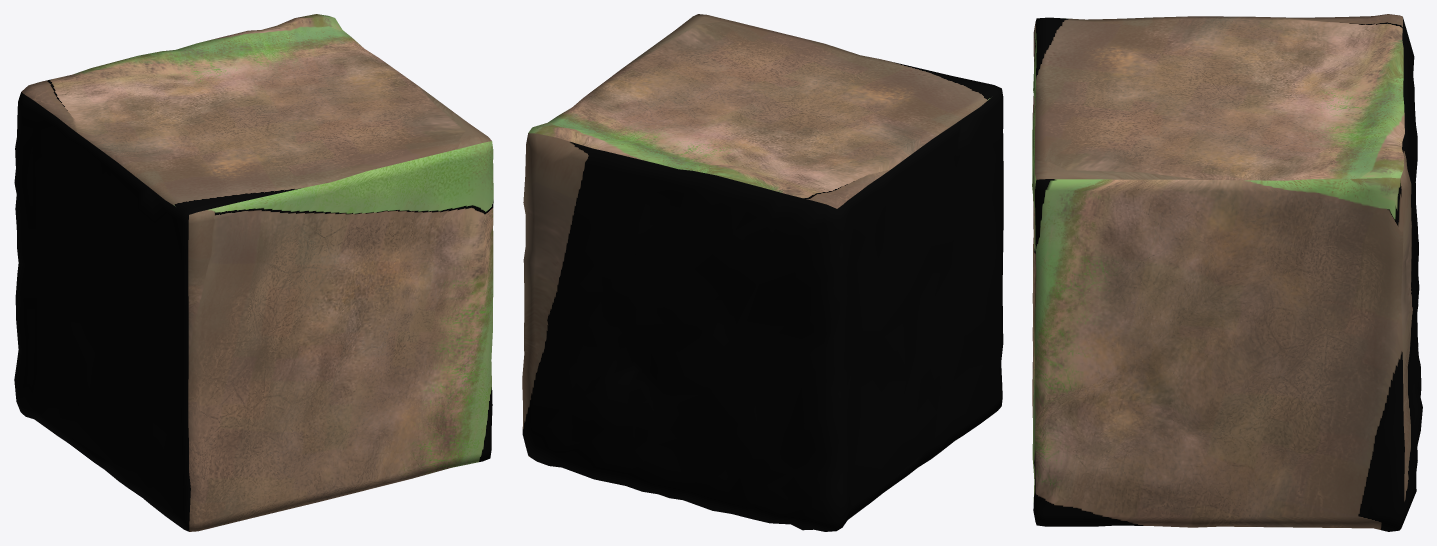
Rendered from DirtCube.FBX.
The picture shows the model from 3 angles, left to right: view 1: azimuth 30°, elevation 25°; view 2: azimuth 150°, elevation 25°; view 3: azimuth 270°, elevation 25°; orthographic projection. The views are drawn at different scales.
Visible parts, largest first — view 1: DirtCube; view 2: DirtCube; view 3: DirtCube.
Part boxes in pixels (box(x1,y1,x2,y2)): DirtCube: box(14, 14, 493, 531); DirtCube: box(522, 14, 1003, 531); DirtCube: box(1032, 14, 1422, 531).
Size of the model in its own units: 41.11 by 41.47 by 39.77.
Materials: 1 (1 with a texture image).
